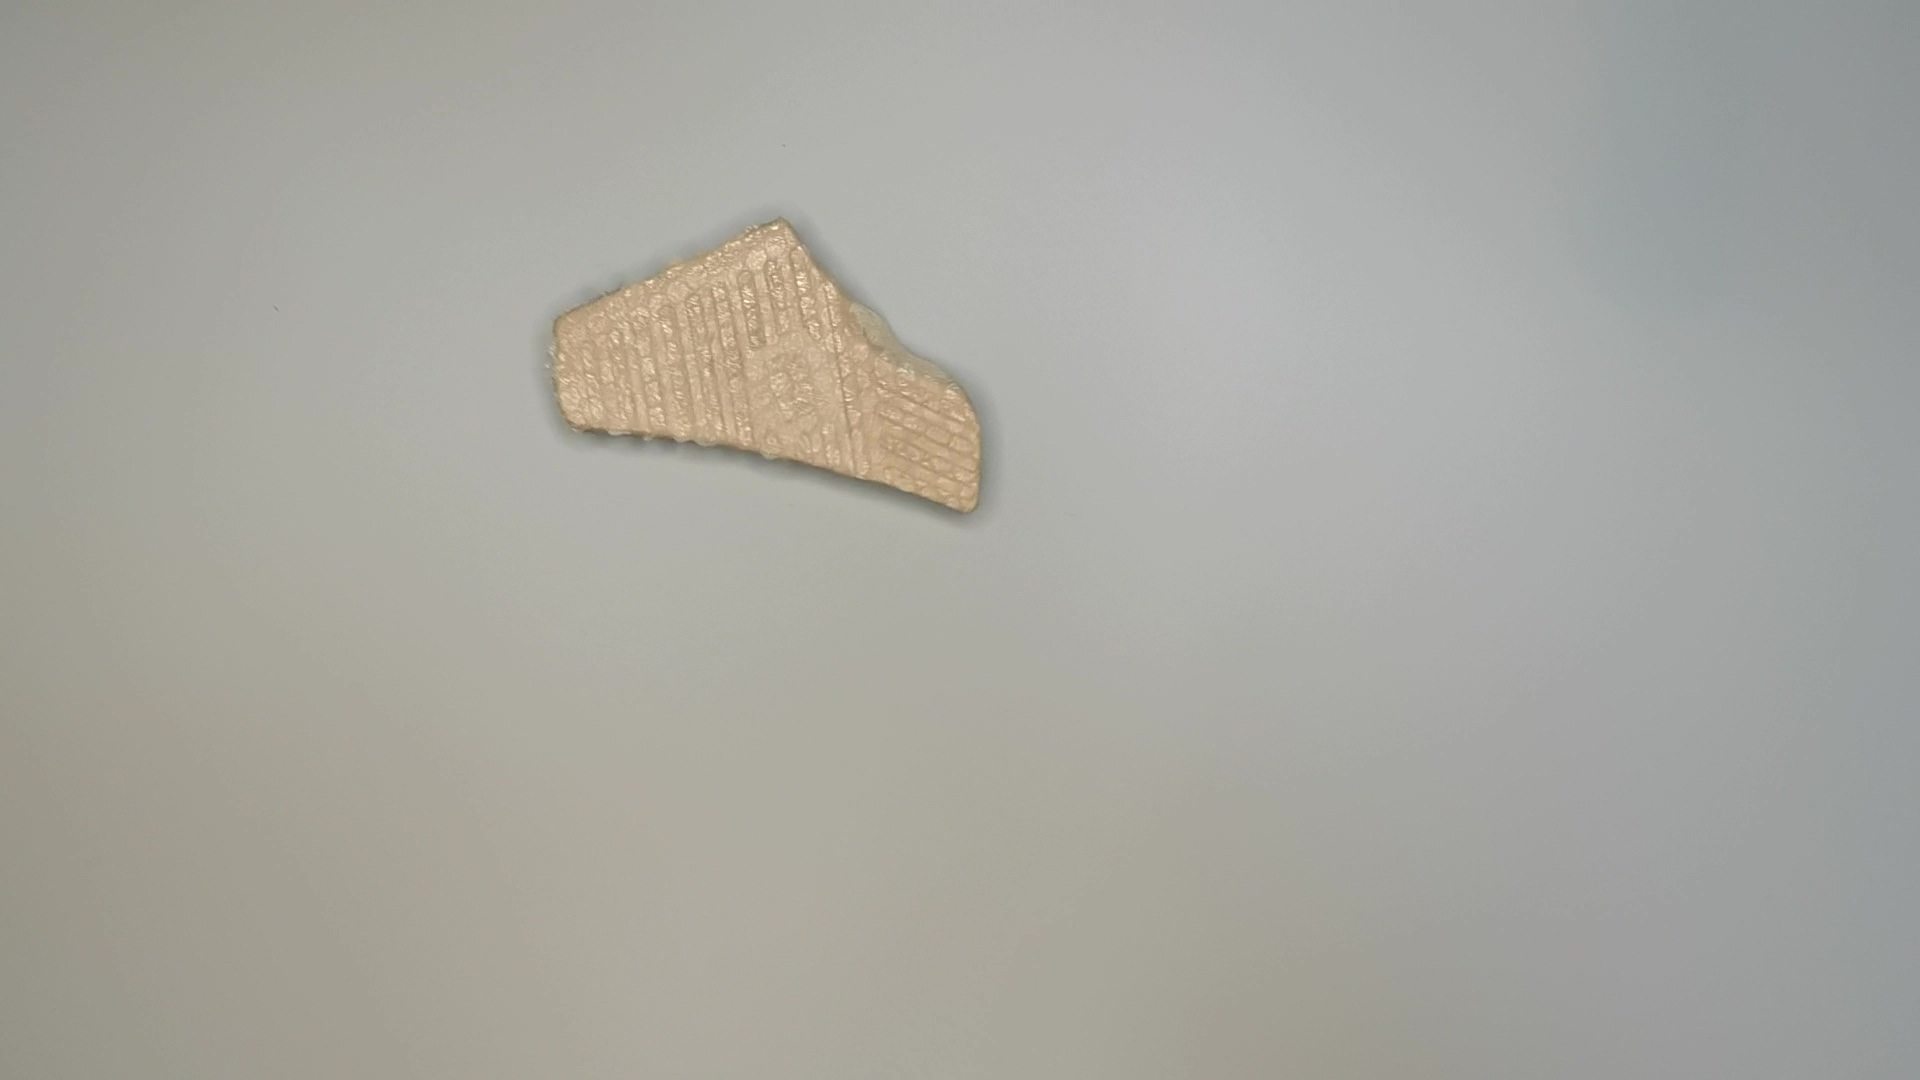ceramic: (549, 208, 996, 517)
